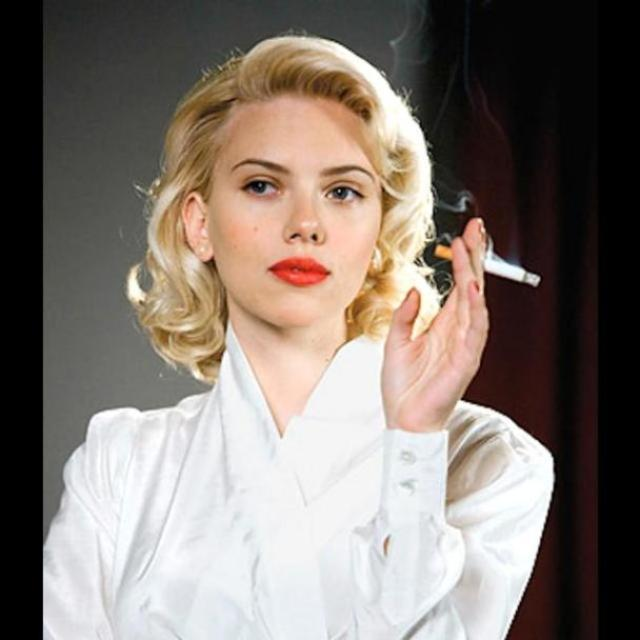rokok: (428, 238, 542, 290)
